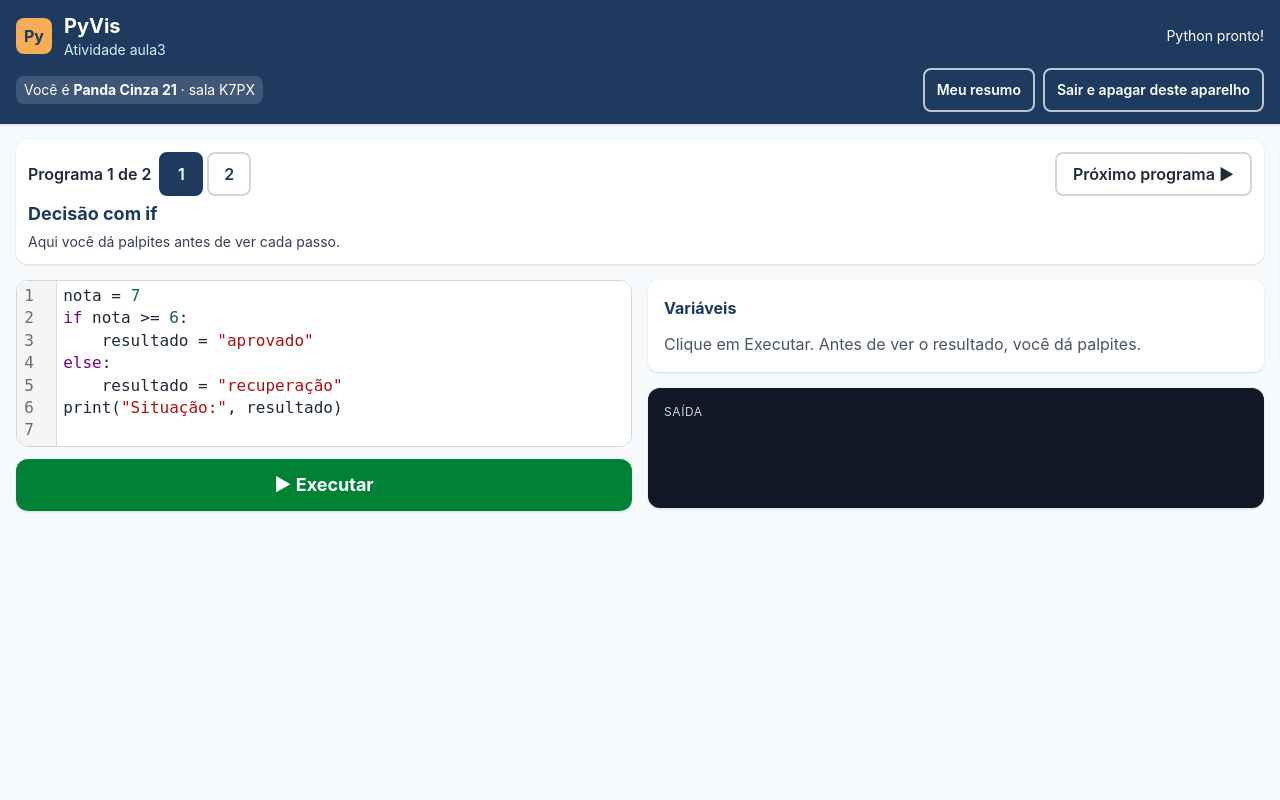
Test: atividade por link › quem volta à página continua na sala, com uma sessão nova
The width and height of the screenshot is (1280, 800).
Expected: the text "Programa 1 de 2" is shown, [28,162,151,186]
Expected: the text "Panda Cinza 21" is shown, [74,81,177,98]
Click the button "Sair e apagar deste aparelho" at (1153, 90), box [1043,68,1264,112]
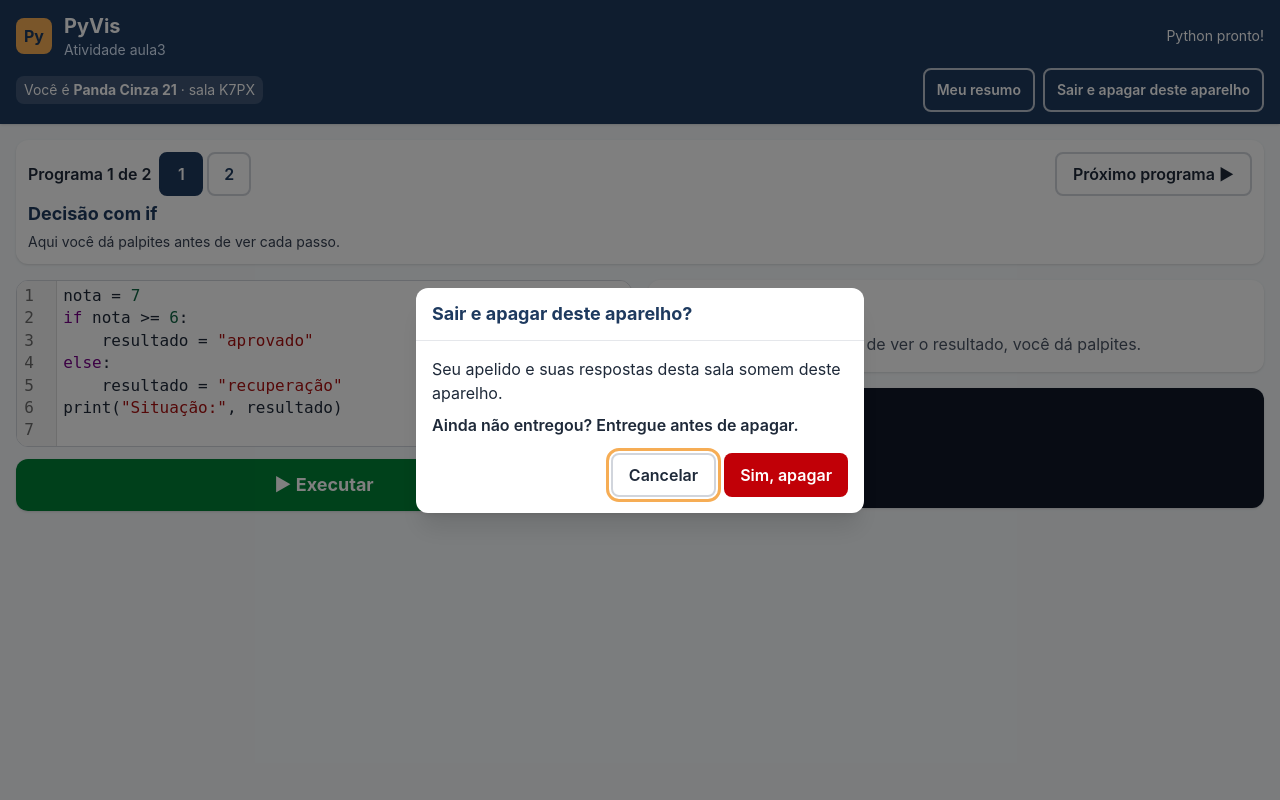
Click the button "Cancelar" at (663, 474), box [611,452,716,496]
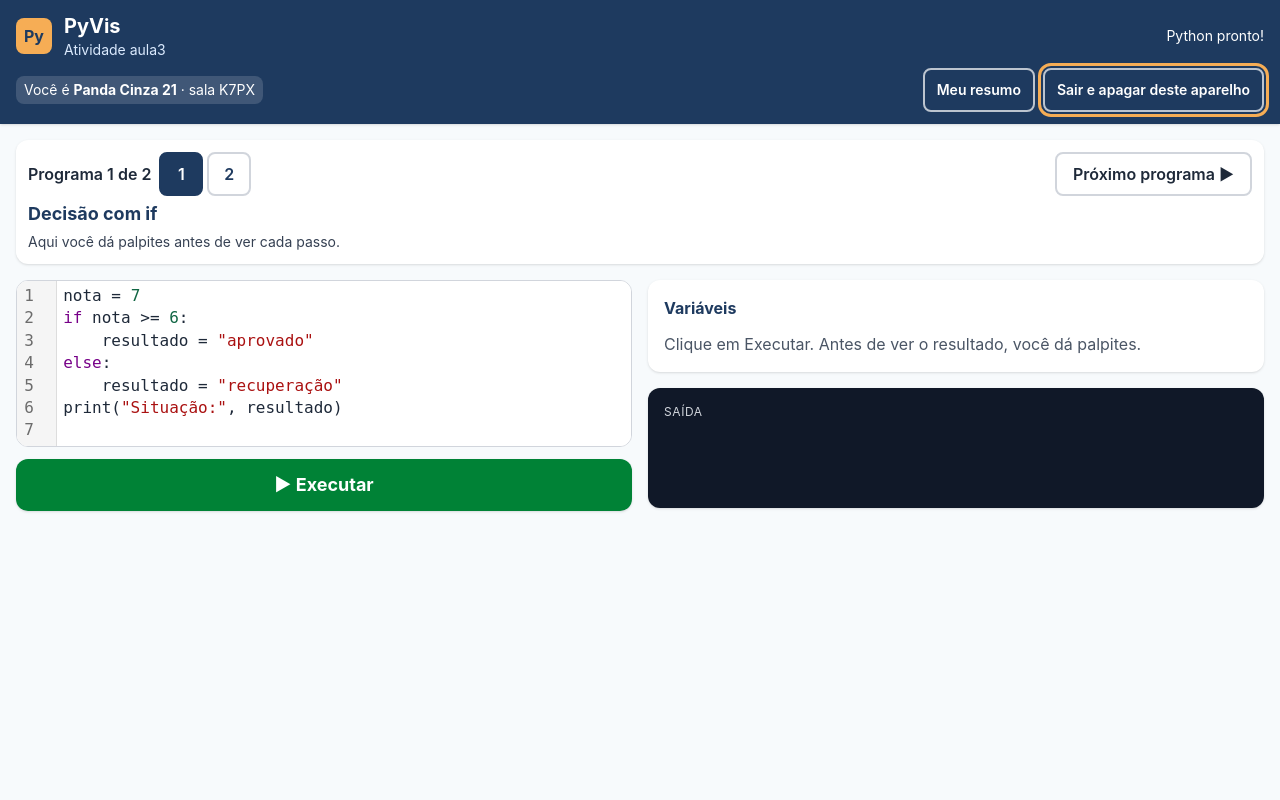
Click the button "Sair e apagar deste aparelho" at (1153, 90), box [1043,68,1264,112]
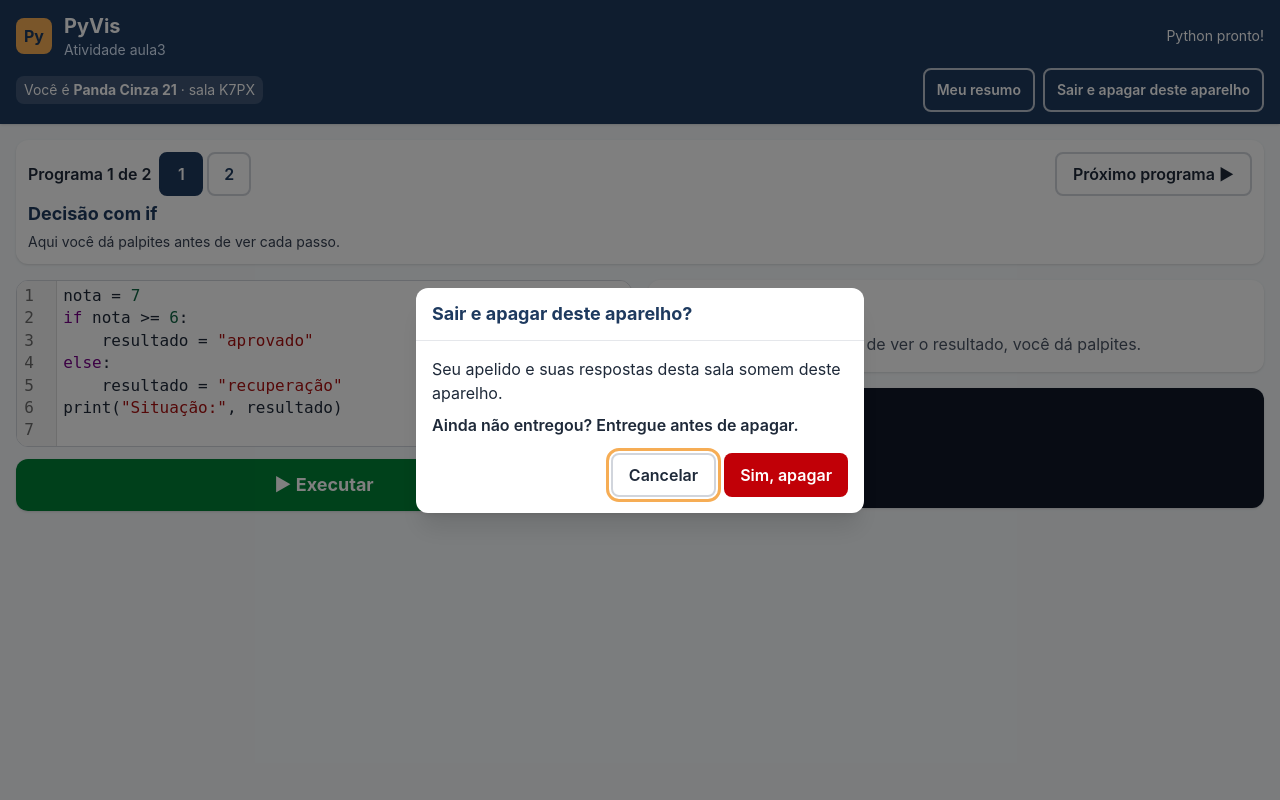
Press Escape
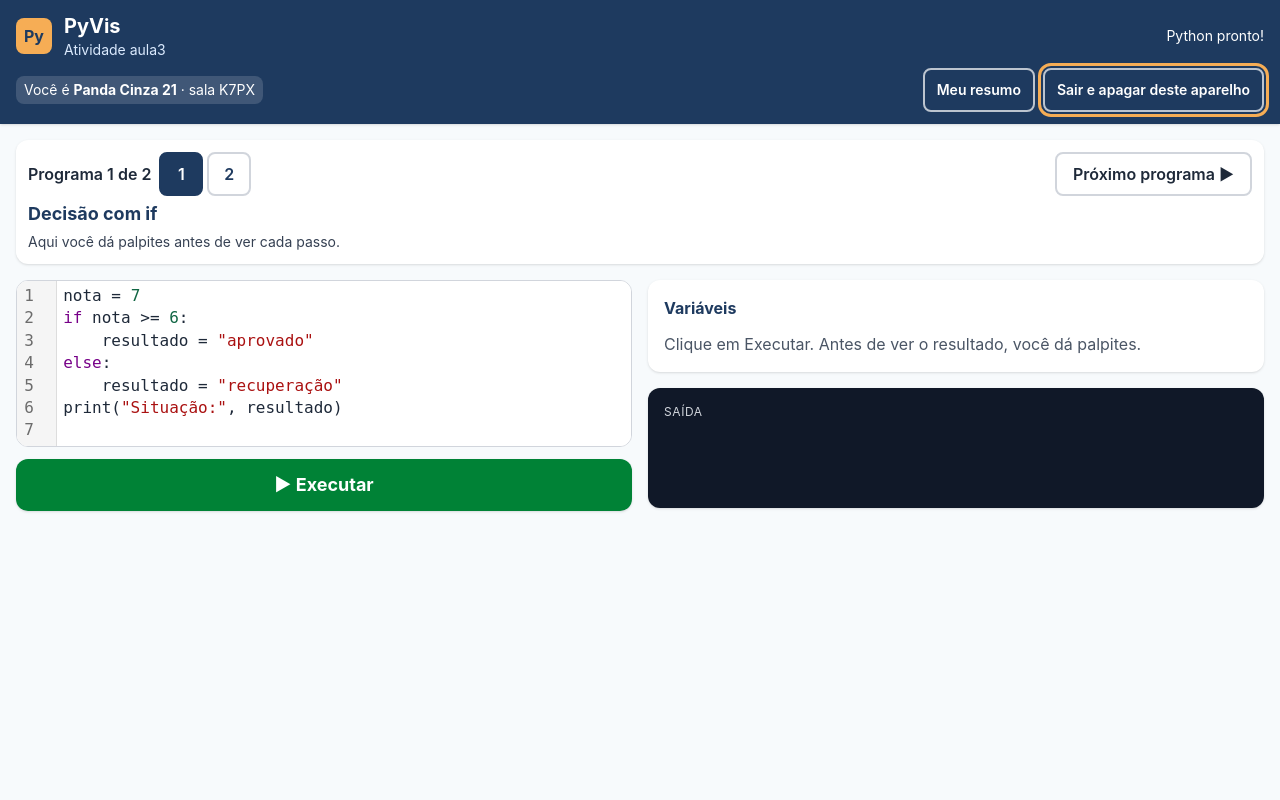
Expected: the dialog is gone
